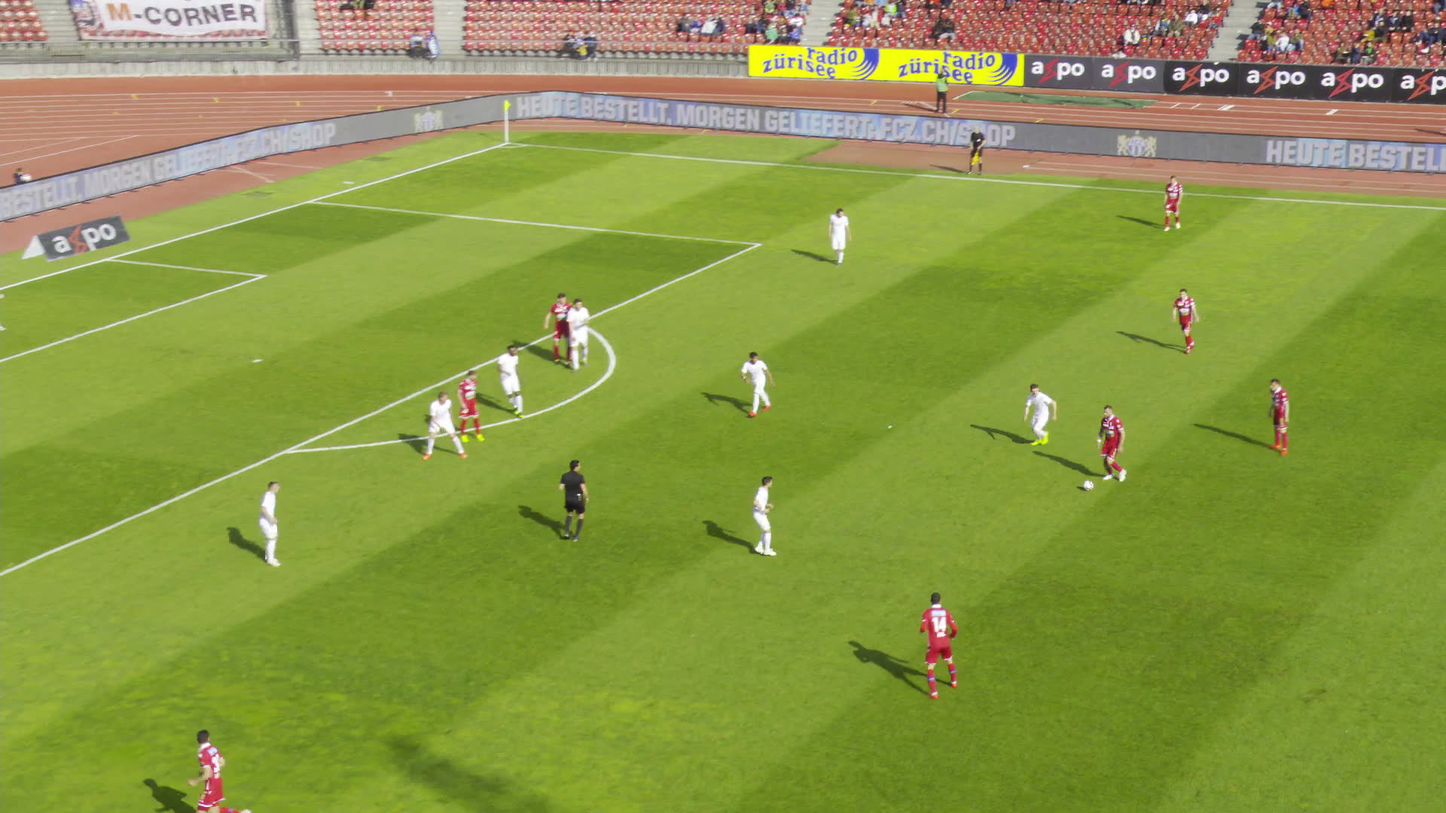ball: (1083, 481, 1093, 491)
player: (190, 729, 244, 812), (917, 591, 957, 699), (1091, 403, 1131, 483), (419, 391, 462, 461), (253, 483, 285, 571), (1020, 383, 1060, 449), (541, 291, 572, 367), (737, 352, 771, 418), (490, 346, 520, 419), (450, 370, 479, 444), (748, 477, 774, 558), (1264, 379, 1289, 457), (1169, 288, 1197, 357), (563, 298, 588, 373), (825, 208, 850, 266), (1159, 175, 1181, 232)
referee: (553, 458, 587, 543), (966, 126, 984, 176)
